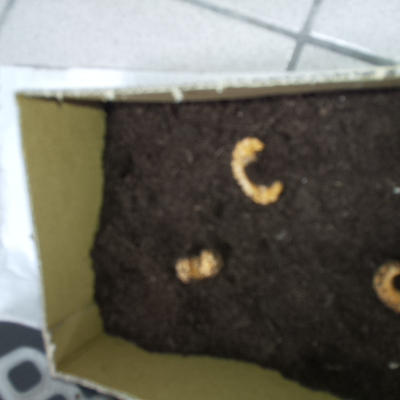eggs: (225, 134, 288, 207), (168, 243, 229, 287), (371, 255, 400, 318)
